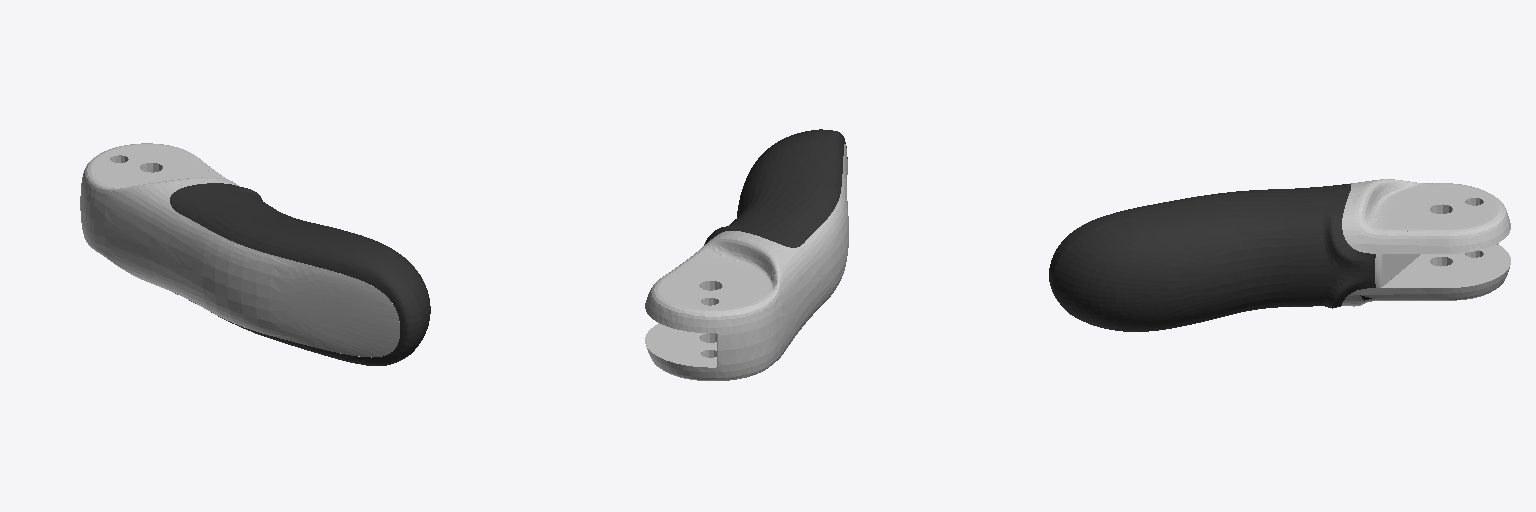
The model's file is middle_distal.obj.
The picture shows the model from 3 angles: view 1: azimuth 30°, elevation 25°; view 2: azimuth 150°, elevation 25°; view 3: azimuth 270°, elevation 25°; orthographic projection.
Visible parts, largest first — view 1: middle_distal_Link; view 2: middle_distal_Link; view 3: middle_distal_Link.
Part boxes in pixels (x1,y1,x2,y2): middle_distal_Link: (80, 143, 430, 365); middle_distal_Link: (645, 129, 848, 380); middle_distal_Link: (1049, 179, 1510, 331).
Bounding box in the file's own units: 0.021 × 0.0129 × 0.049.